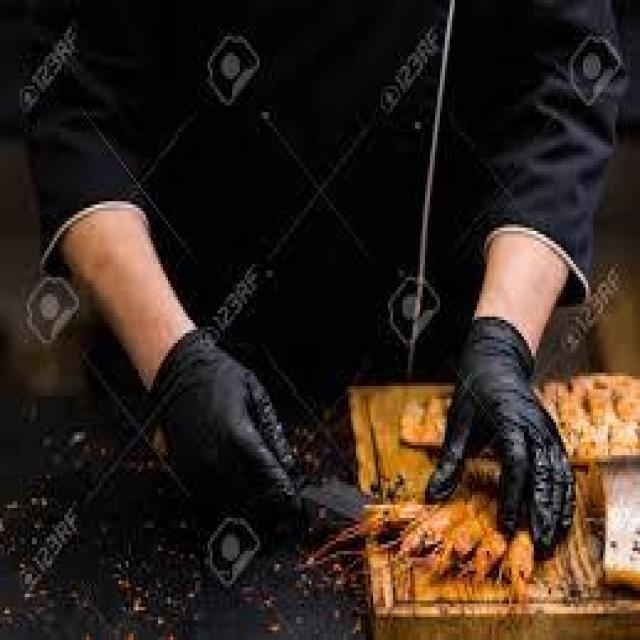apron: (433, 336, 571, 550), (154, 346, 300, 534)
